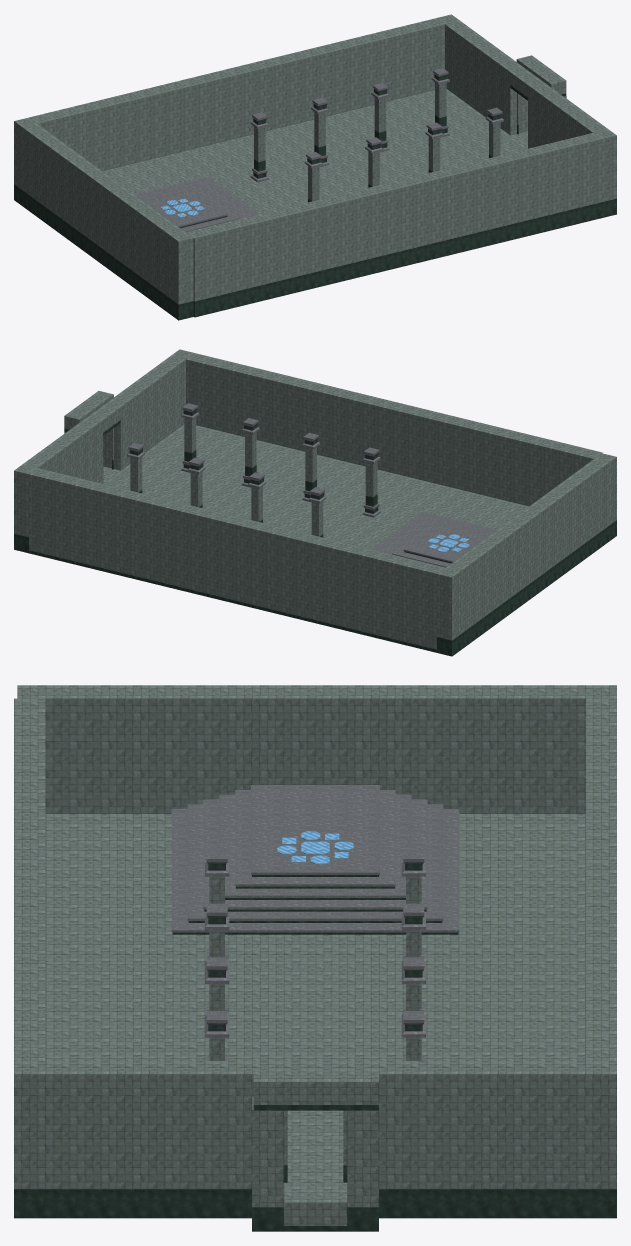
The model's file is startroom.glb.
The picture shows the model from 3 angles, top to bottom: view 1: azimuth 30°, elevation 25°; view 2: azimuth 150°, elevation 25°; view 3: azimuth 270°, elevation 25°; orthographic projection. The views are drawn at different scales.
Parts seen in each view (by area): view 1: block (×10), block_quarter (×5), stairs (×3), floor, stairs_corner, floor_detail; view 2: block (×10), block_quarter (×7), stairs (×3), floor, stairs_corner, floor_detail; view 3: block (×10), stairs (×5), stairs_corner (×2), floor, floor_detail, columns_small.
Boxes of the visible parts, x1,y1,x2,y2 form: block (×10): (14,14,616,320); block_quarter (×5): (254,82,446,172); stairs (×3): (134,187,259,231); floor: (148,194,214,222); stairs_corner: (163,176,234,196); floor_detail: (160,198,204,217); block (×10): (14,349,616,656); block_quarter (×7): (130,417,377,537); stairs (×3): (372,523,496,567); floor: (416,529,483,558); stairs_corner: (397,511,468,531); floor_detail: (428,534,469,551); block (×10): (14,685,616,1231); stairs (×5): (171,785,459,934); stairs_corner (×2): (171,865,459,934); floor: (268,785,362,865); floor_detail: (277,831,353,864); columns_small: (283,1110,347,1182).
Bounding box in the file's own units: 30 × 5.2 × 19.
95 materials, 94 textured.
